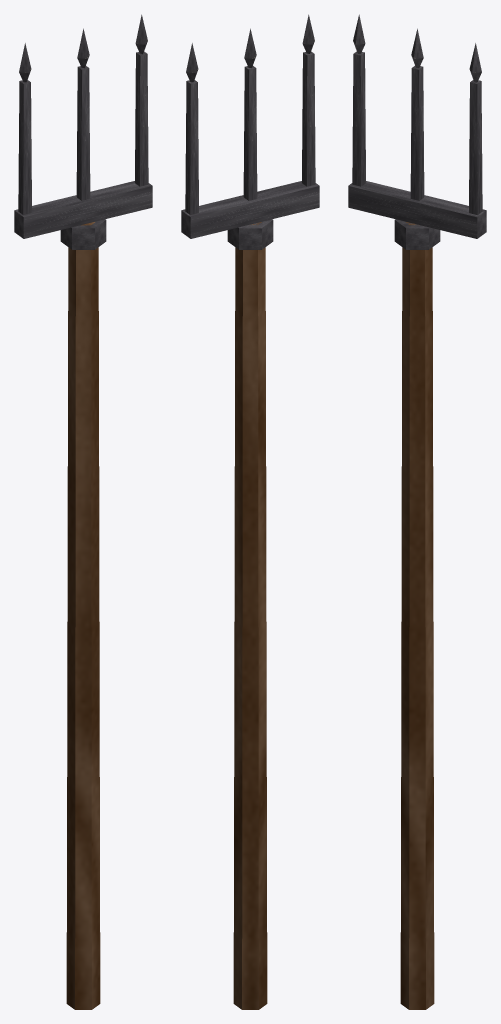
File: Pitchfork.fbx
3 renders of one model, left to right at view 1: azimuth 30°, elevation 25°; view 2: azimuth 210°, elevation 25°; view 3: azimuth 330°, elevation 25°, orthographic.
Parts seen in each view (by area): view 1: Handle, Head; view 2: Handle, Head; view 3: Handle, Head.
Boxes of the visible parts, bbox=[...] form: Handle: bbox=[60, 219, 106, 1009]; Head: bbox=[14, 14, 152, 238]; Handle: bbox=[227, 219, 273, 1009]; Head: bbox=[181, 14, 319, 238]; Handle: bbox=[394, 219, 440, 1009]; Head: bbox=[348, 14, 486, 238].
Size of the model in its own units: 62 by 448 by 18.9.
Materials: 1 (1 with a texture image).
